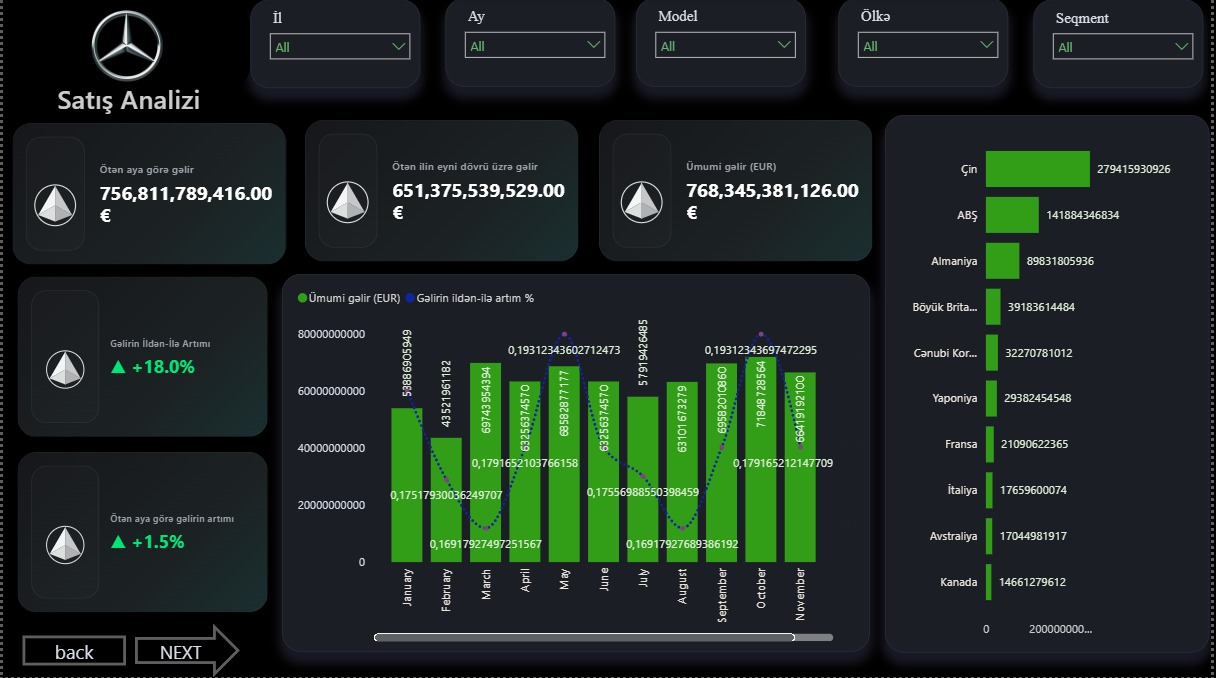

This screenshot's page, from the dashboard's own definition file:
{"tool":"powerbi","page":{"name":"Satış və Performans Analizi","canvas":[1280,720],"ordinal":1},"visuals":[{"type":"slicer","fields":{"Values":["Tarix.Date.Variation.Date Hierarchy.Month"]},"box":[470,0,180,94],"z":0},{"type":"slicer","fields":{"Values":["Tarix.Date.Variation.Date Hierarchy.Year"]},"box":[262,2,180,94],"z":1000},{"type":"slicer","fields":{"Values":["MB_Model.Seqment"]},"box":[1092,2,180,94],"z":2000},{"type":"slicer","fields":{"Values":["MB_Model.Model_adı"]},"box":[672,0,180,94],"z":3000},{"type":"slicer","fields":{"Values":["MB_Ölkə.Ölkə_adı"]},"box":[886,0,180,94],"z":4000},{"type":"image","box":[0,4,262,92],"z":5000},{"type":"htmlContent443BE3AD55E043BF878BED274D3A6865","fields":{"content":["DAXs.Gəlir_YoY_Premium_Card"]},"box":[0,279.9,295.9,214.7],"z":6000},{"type":"htmlContent443BE3AD55E043BF878BED274D3A6865","fields":{"content":["DAXs.Gəlir_MoM_Premium_Card"]},"box":[0,466,295.9,210],"z":7000},{"type":"htmlContent443BE3AD55E043BF878BED274D3A6865","fields":{"content":["DAXs.Ötən_Ay_Gəlir_Premium_Card"]},"box":[0,122,310,170],"z":8000},{"type":"htmlContent443BE3AD55E043BF878BED274D3A6865","fields":{"content":["DAXs.Ötən_İlin_Gəliri_Premium_Card"]},"box":[310,120,310,170],"z":9000},{"type":"htmlContent443BE3AD55E043BF878BED274D3A6865","fields":{"content":["DAXs.Ümumi_Gəlir_Premium_Card"]},"box":[622,120,310,170],"z":10000},{"type":"lineClusteredColumnComboChart","title":"Aylıq gəlir göstəricisi","fields":{"Category":["Tarix.Date.Variation.Date Hierarchy.Month"],"Y":["DAXs.Ümumi gəlir (EUR)"],"Y2":["DAXs.Gəlirin ildən-ilə artım %"]},"box":[295.9,292.7,623.5,400.8],"z":11000},{"type":"clusteredBarChart","title":"Menecerlər üzrə Gəlir və Mənfəət marjası%","fields":{"Category":["MB_Ölkə.Ölkə_adı"],"Y":["DAXs.Ümumi gəlir (EUR)"]},"box":[936,124,344,570],"z":12000},{"type":"actionButton","box":[140,663.3,111.3,57.3],"z":13000},{"type":"actionButton","box":[20.7,676,109.8,31.8],"z":14000},{"type":"textbox","title":"Satış Analizi","box":[52,88,300,36],"z":15000}]}

Visuals, with their boxes in screenshot pixels (x1, y1, x2, y2), scaled from the page's 1280x720 canvas onto the 1216x678 screenshot:
slicer - Tarix.Date.Variation.Date Hierarchy.Month: [446, 0, 618, 89]
slicer - Tarix.Date.Variation.Date Hierarchy.Year: [249, 2, 420, 90]
slicer - MB_Model.Seqment: [1037, 2, 1208, 90]
slicer - MB_Model.Model_adı: [638, 0, 809, 89]
slicer - MB_Ölkə.Ölkə_adı: [842, 0, 1013, 89]
image: [0, 4, 249, 90]
htmlContent443BE3AD55E043BF878BED274D3A6865 - DAXs.Gəlir_YoY_Premium_Card: [0, 264, 281, 466]
htmlContent443BE3AD55E043BF878BED274D3A6865 - DAXs.Gəlir_MoM_Premium_Card: [0, 439, 281, 637]
htmlContent443BE3AD55E043BF878BED274D3A6865 - DAXs.Ötən_Ay_Gəlir_Premium_Card: [0, 115, 294, 275]
htmlContent443BE3AD55E043BF878BED274D3A6865 - DAXs.Ötən_İlin_Gəliri_Premium_Card: [294, 113, 589, 273]
htmlContent443BE3AD55E043BF878BED274D3A6865 - DAXs.Ümumi_Gəlir_Premium_Card: [591, 113, 885, 273]
"Aylıq gəlir göstəricisi" lineClusteredColumnComboChart: [281, 276, 873, 653]
"Menecerlər üzrə Gəlir və Mənfəət marjası%" clusteredBarChart: [889, 117, 1215, 654]
actionButton: [133, 625, 239, 677]
actionButton: [20, 637, 124, 667]
"Satış Analizi" textbox: [49, 83, 334, 117]
